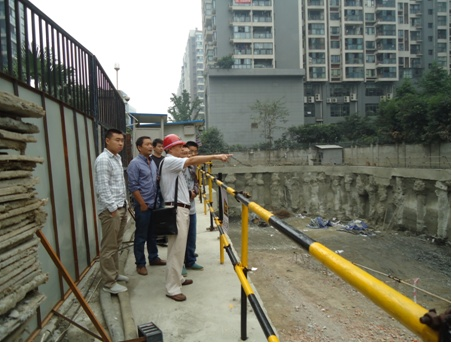none: (102, 126, 127, 154), (135, 135, 153, 157), (151, 137, 166, 155)
red: (160, 132, 183, 157)
